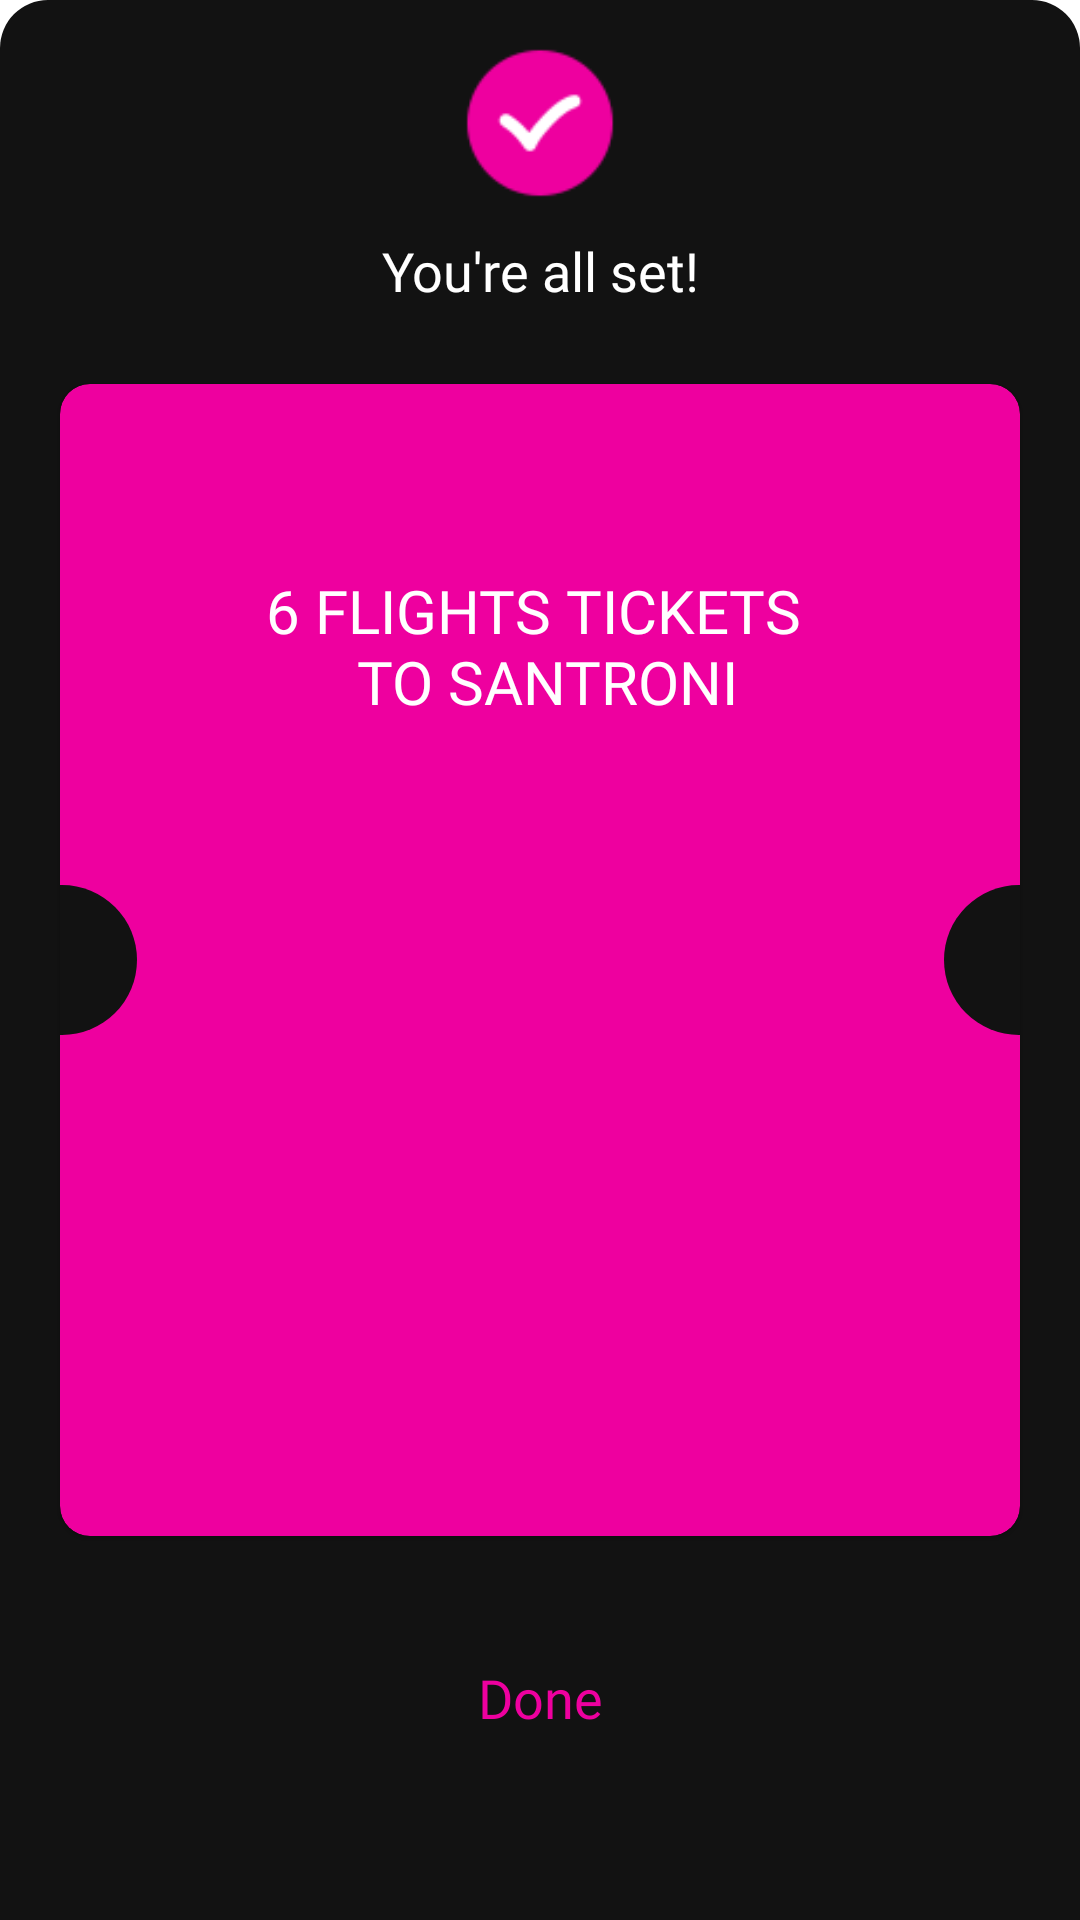

Icons on this 1080*1920 Android screen, each with its box as box=[x1, y1, x2, y2]:
correct: box=[466, 49, 614, 197]
